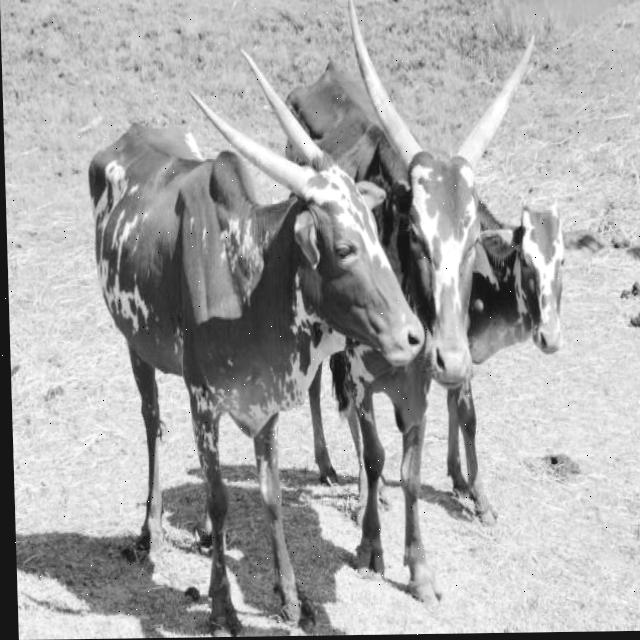Cow: (135, 87, 400, 605), (392, 101, 515, 507)
